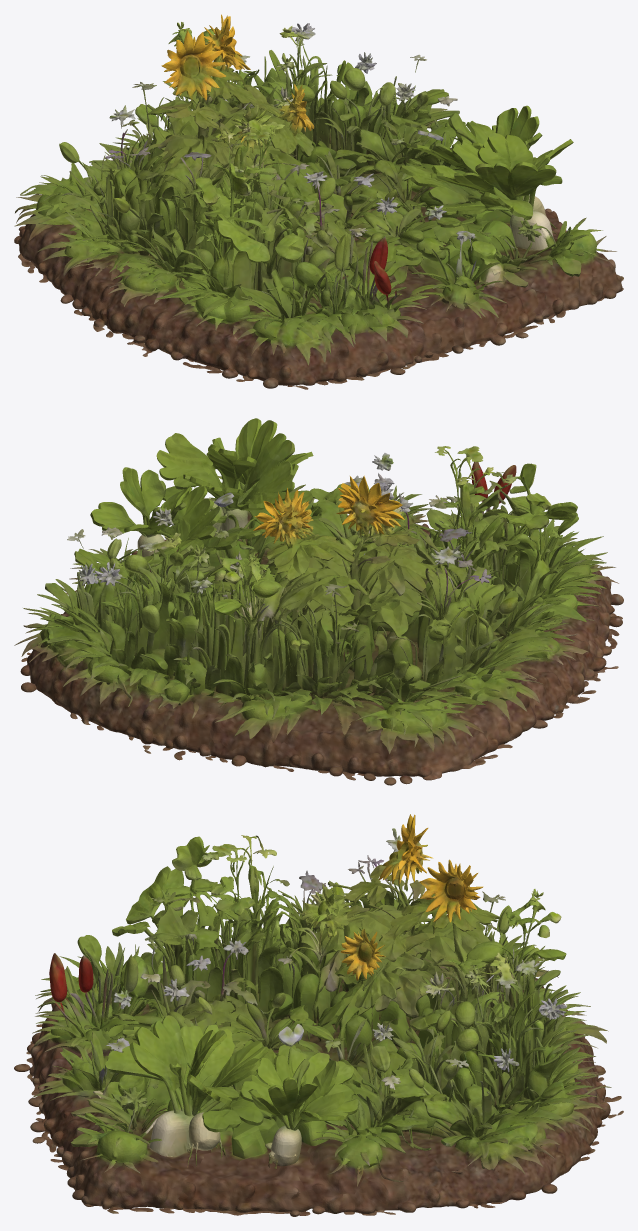
Rendered from cover-crops.glb.
3 renders of one model, top to bottom at view 1: azimuth 30°, elevation 25°; view 2: azimuth 150°, elevation 25°; view 3: azimuth 270°, elevation 25°, orthographic. The views are drawn at different scales.
Visible parts, largest first — view 1: tripo_node_cdc154e3-7459-46fd-afc1-eb89f5c0a230; view 2: tripo_node_cdc154e3-7459-46fd-afc1-eb89f5c0a230; view 3: tripo_node_cdc154e3-7459-46fd-afc1-eb89f5c0a230.
Boxes of the visible parts, x1,y1,x2,y2 form: tripo_node_cdc154e3-7459-46fd-afc1-eb89f5c0a230: [14, 14, 623, 389]; tripo_node_cdc154e3-7459-46fd-afc1-eb89f5c0a230: [14, 418, 623, 785]; tripo_node_cdc154e3-7459-46fd-afc1-eb89f5c0a230: [14, 814, 623, 1216].
Bounding box in the file's own units: 0.9383 × 0.4311 × 0.9831.
1 material, 1 textured.
